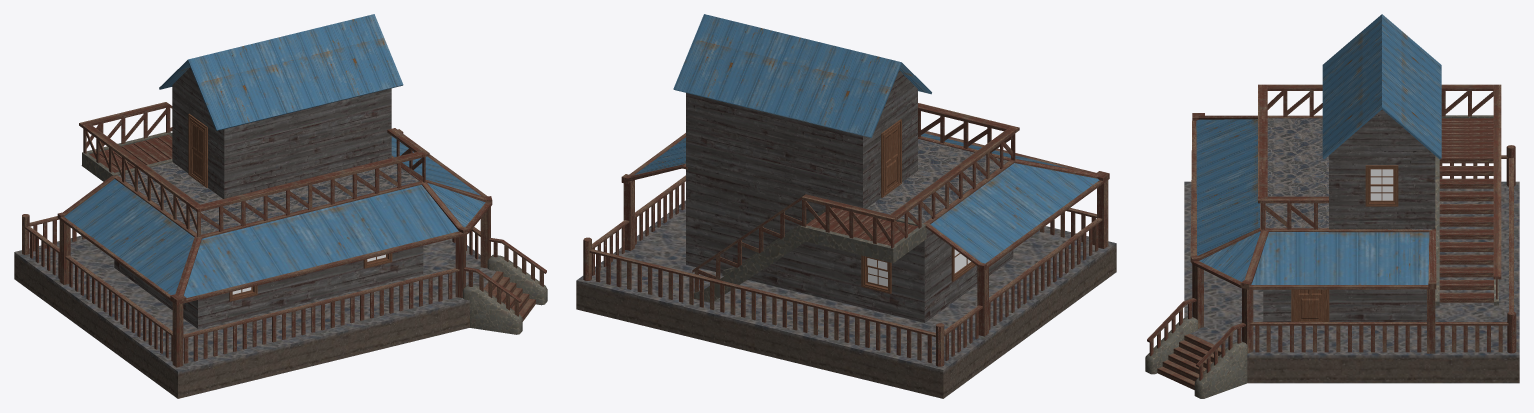
Rendered from cottage.fbx.
3 views of the same model, side by side, from view 1: azimuth 30°, elevation 25°; view 2: azimuth 150°, elevation 25°; view 3: azimuth 270°, elevation 25° (orthographic). The views are drawn at different scales.
Parts seen in each view (by area): view 1: house, door02; view 2: house, door02, windows; view 3: house, door01, windows.
Boxes of the visible parts, x1,y1,x2,y2 form: house: [14, 14, 547, 398]; door02: [189, 117, 205, 185]; house: [576, 14, 1116, 398]; door02: [883, 123, 900, 195]; windows: [867, 249, 970, 286]; house: [1145, 14, 1519, 398]; door01: [1294, 289, 1326, 321]; windows: [1370, 169, 1393, 200].
Size of the model in its own units: 780 by 480 by 653.
2 materials, 1 textured.
